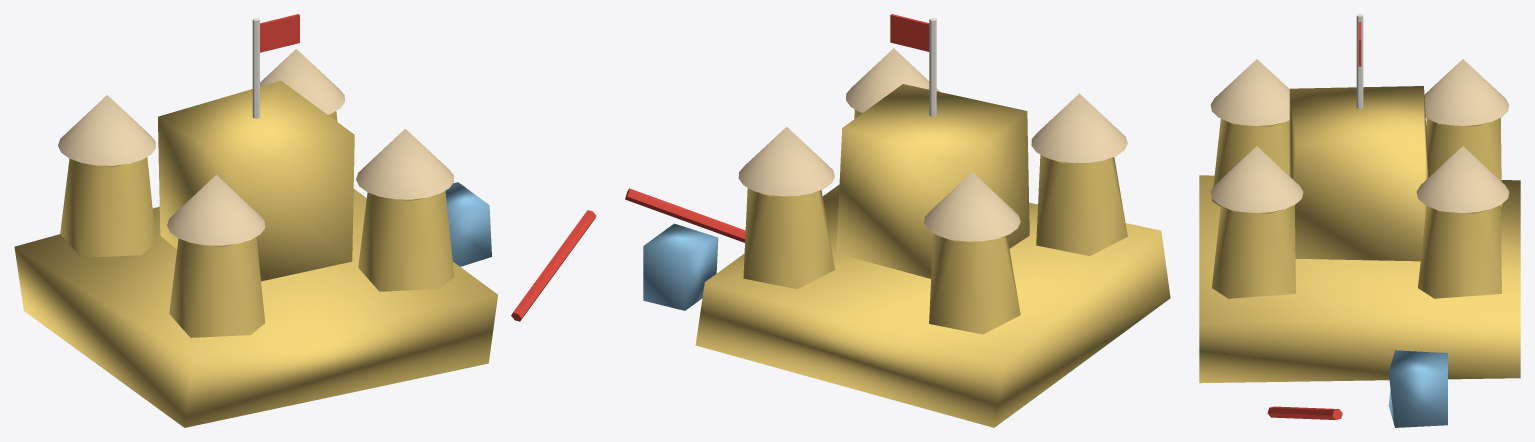
Rendered from sandcastle.glb.
The picture shows the model from 3 angles, left to right: view 1: azimuth 30°, elevation 25°; view 2: azimuth 150°, elevation 25°; view 3: azimuth 270°, elevation 25°; orthographic projection. The views are drawn at different scales.
Visible parts, largest first — view 1: sandcastle; view 2: sandcastle; view 3: sandcastle.
Part boxes in pixels (box(x1,y1,x2,y2)): sandcastle: box(14, 14, 596, 427); sandcastle: box(625, 14, 1170, 427); sandcastle: box(1199, 14, 1520, 427).
Bounding box in the file's own units: 1.81 × 1.15 × 1.1.
Materials: 1 (1 with a texture image).
